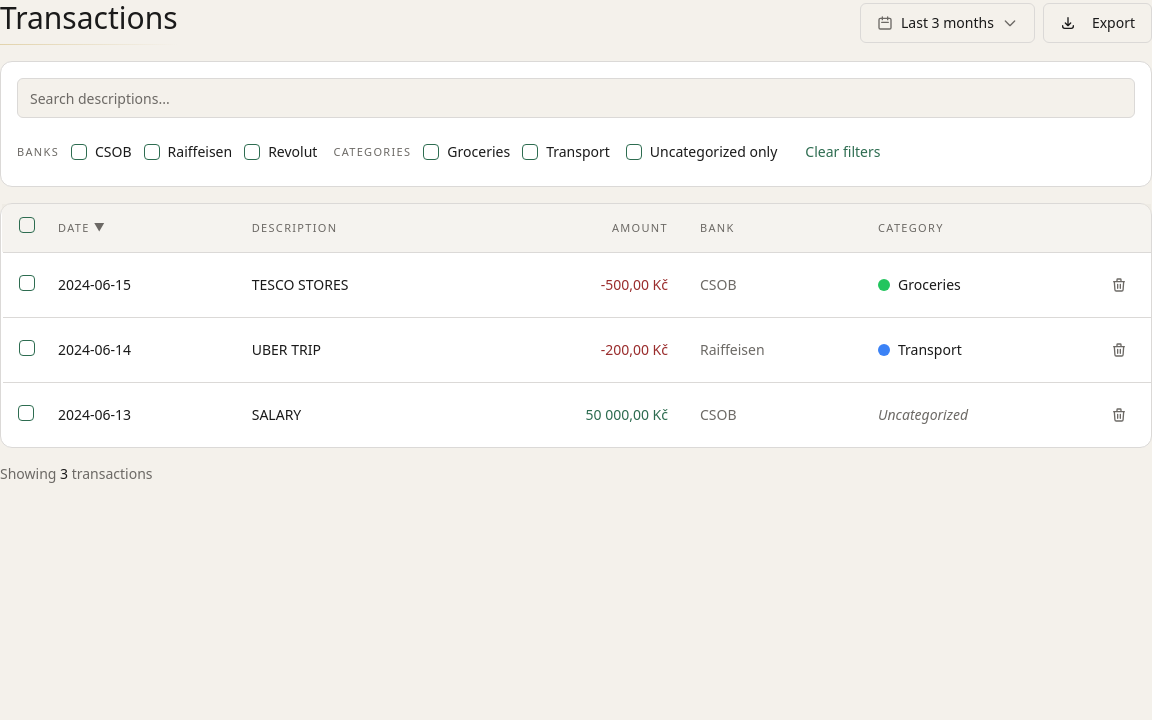
TransactionsPage › opens export modal when Export clicked
The image size is (1152, 720).
Click the button "Export": (1097, 22) [1043,2,1151,42]
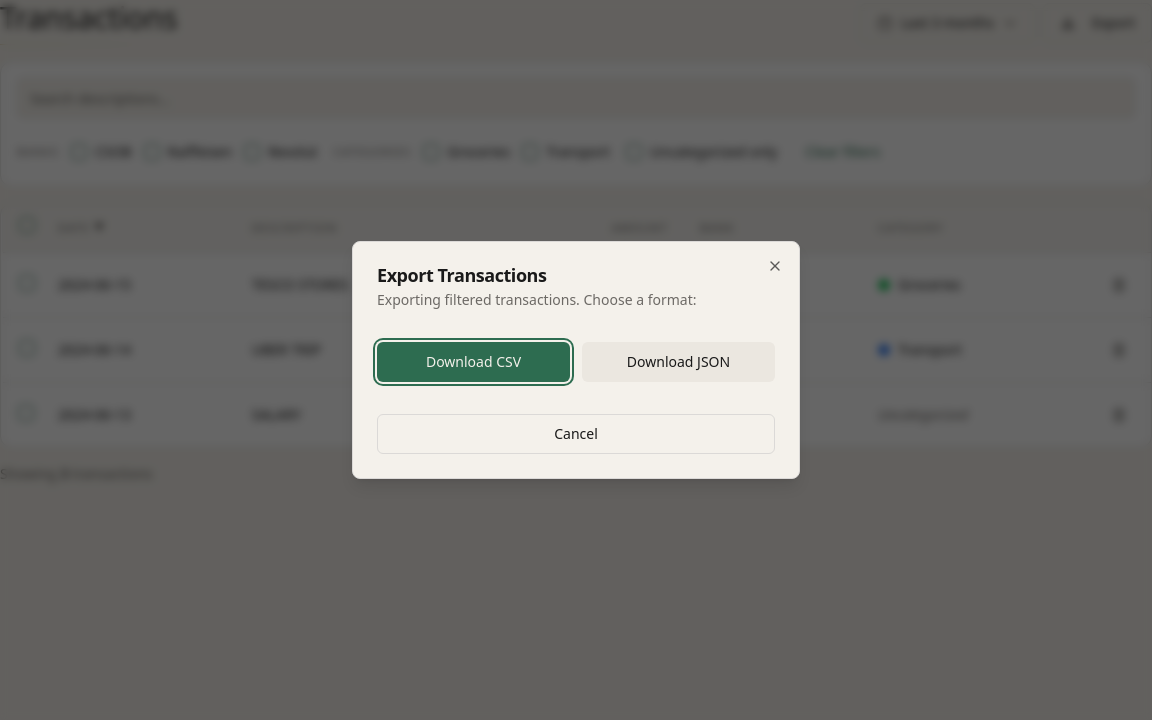
Expected: the heading "Export Transactions" is shown, [377,263,546,287]
Expected: the button "Download CSV" is shown, [377,342,570,382]
Expected: the button "Download JSON" is shown, [582,342,775,382]
